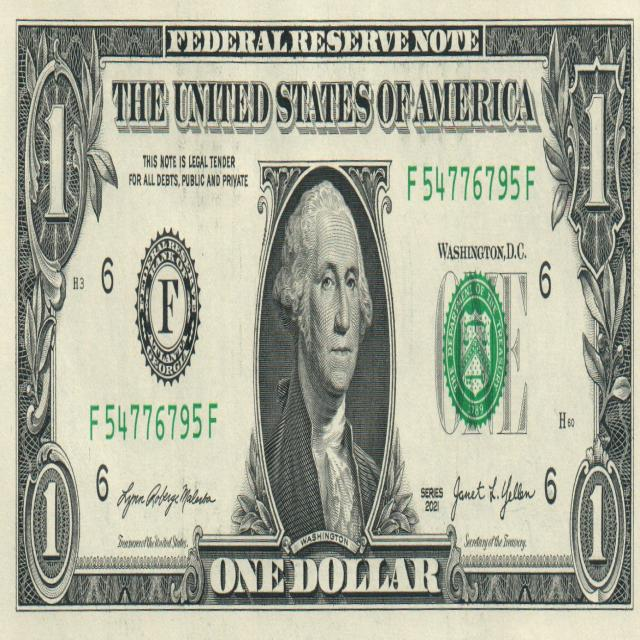SerialNumber: (91, 403, 217, 440), (408, 166, 535, 201)
